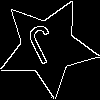J: (23, 22, 66, 75)
